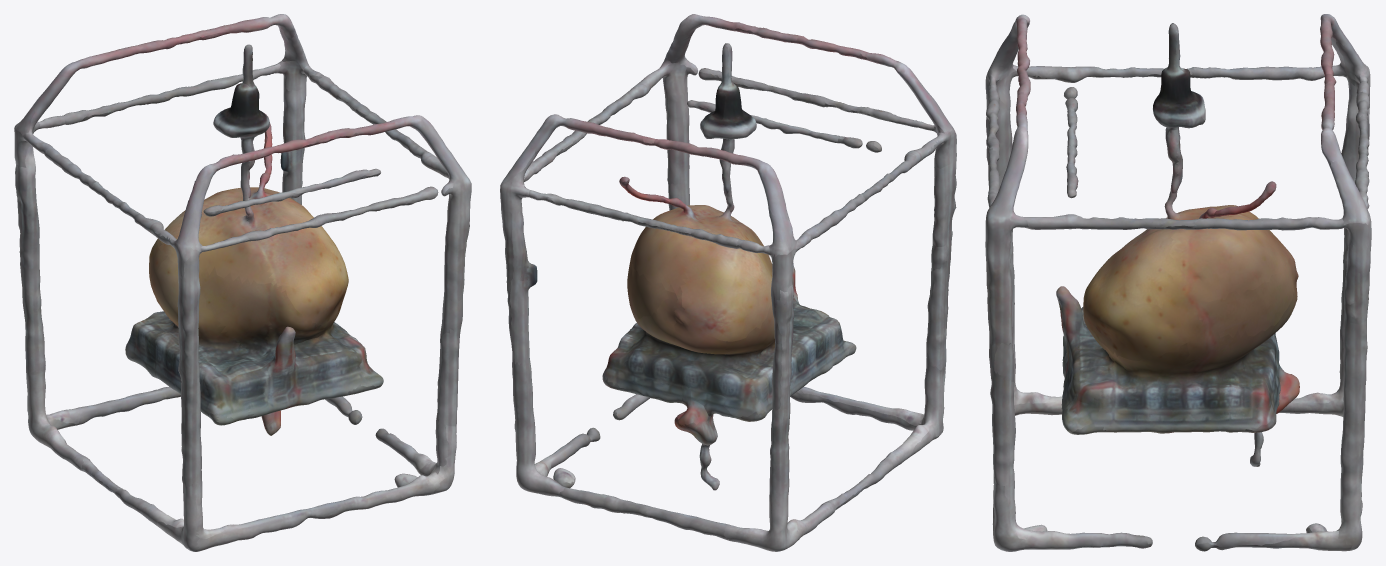
3 views of the same model, side by side, from view 1: azimuth 30°, elevation 25°; view 2: azimuth 150°, elevation 25°; view 3: azimuth 270°, elevation 25° (orthographic). The views are drawn at different scales.
Visible parts, largest first — view 1: geometry_0; view 2: geometry_0; view 3: geometry_0.
Boxes of the visible parts, x1,y1,x2,y2 form: geometry_0: (14,14,471,551); geometry_0: (500,14,956,551); geometry_0: (985,14,1371,551).
Size of the model in its own units: 0.5949 by 0.8297 by 0.6194.
Materials: 1 (1 with a texture image).
